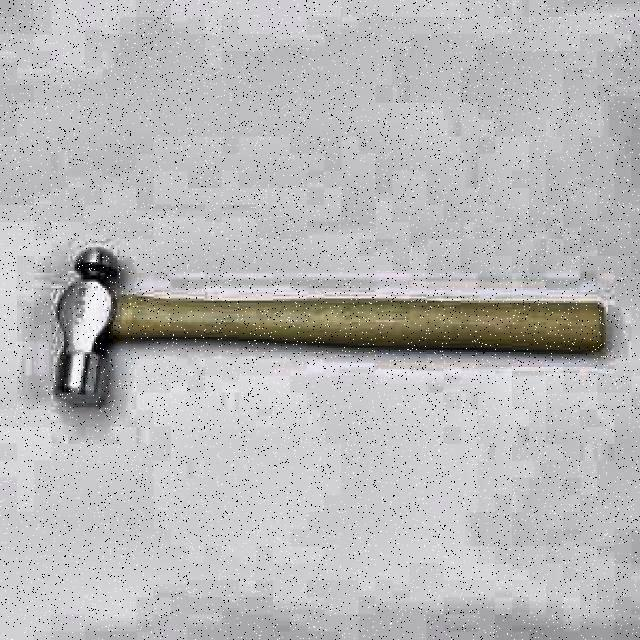hammer: (53, 249, 607, 405)
